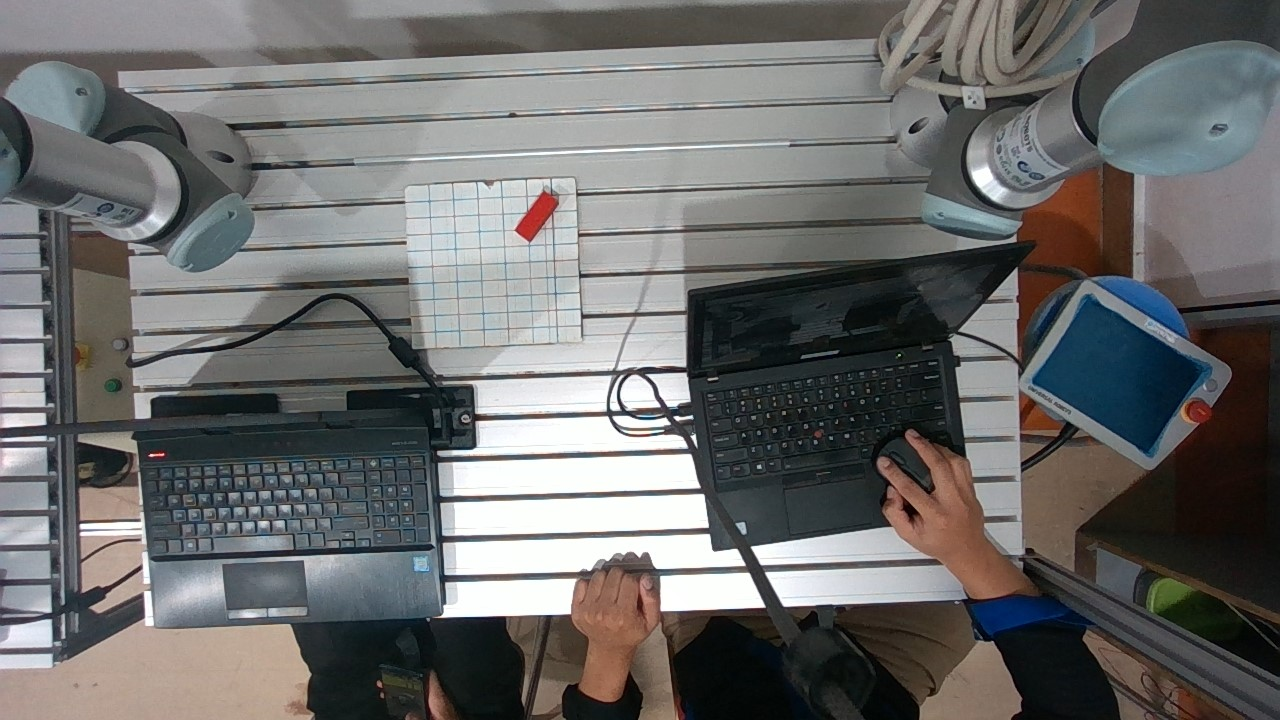box: (497, 177, 567, 243)
